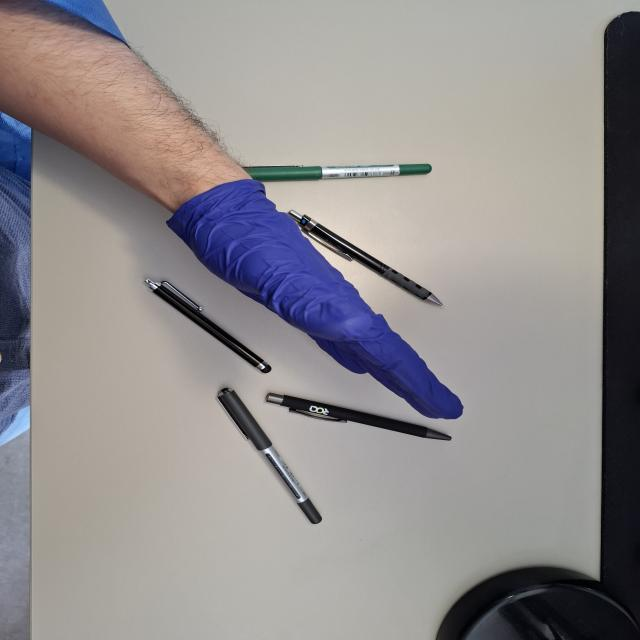glove_on: (160, 176, 468, 423)
